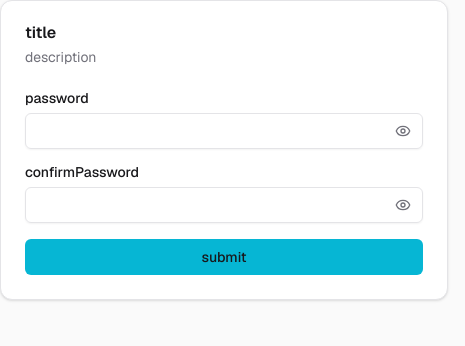
Scenario: ResetPasswordForm › requires matching passwords
The image size is (465, 346).
Type "newPass123" into the password field labelled "password". click: (224, 131)
box: [25,113,423,149]
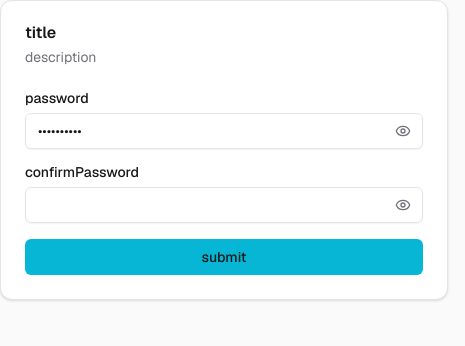
Type "different1" into the password field labelled "confirmPassword". click: (224, 205)
box: [25,187,423,223]
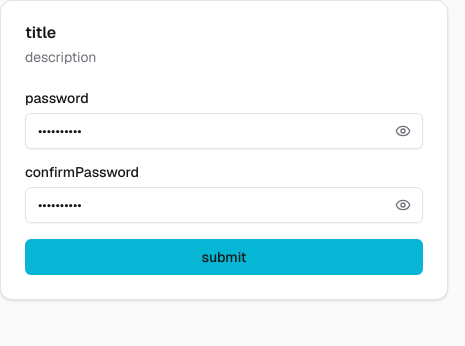
Click the button "submit". click: (224, 257)
box: [25,239,423,275]
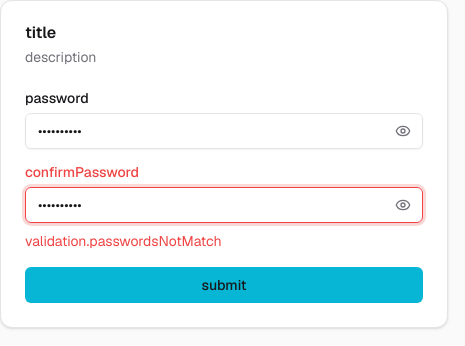
Expected: the text "validation.passwordsNotMatch" is shown, [25,232,222,250]
